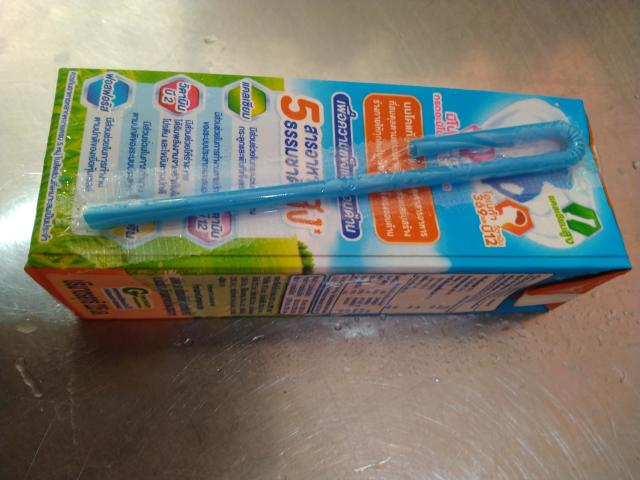drink_box: (18, 49, 640, 353)
